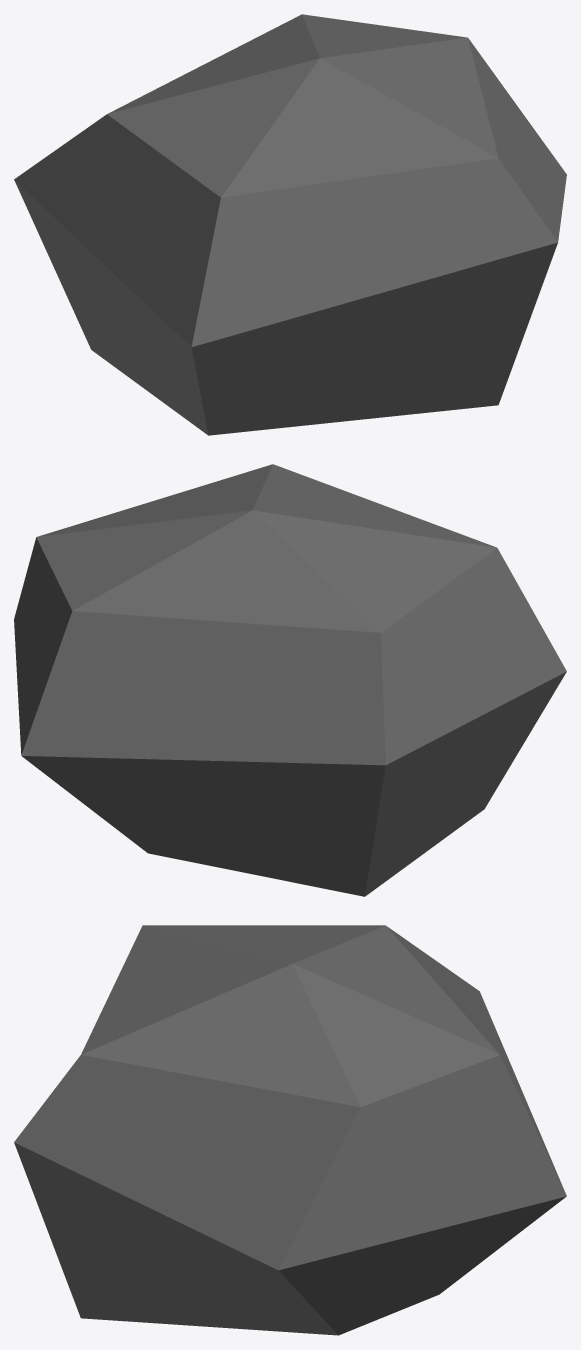
File: Rock3_Model.fbx
3 views of the same model, one above another, from view 1: azimuth 30°, elevation 25°; view 2: azimuth 150°, elevation 25°; view 3: azimuth 270°, elevation 25° (orthographic). The views are drawn at different scales.
Parts seen in each view (by area): view 1: pSphere3; view 2: pSphere3; view 3: pSphere3.
Part boxes in pixels (x1,y1,x2,y2): pSphere3: (14,14,566,435); pSphere3: (14,464,566,896); pSphere3: (14,925,566,1335).
Bounding box in the file's own units: 3.03 × 1.86 × 2.97.
